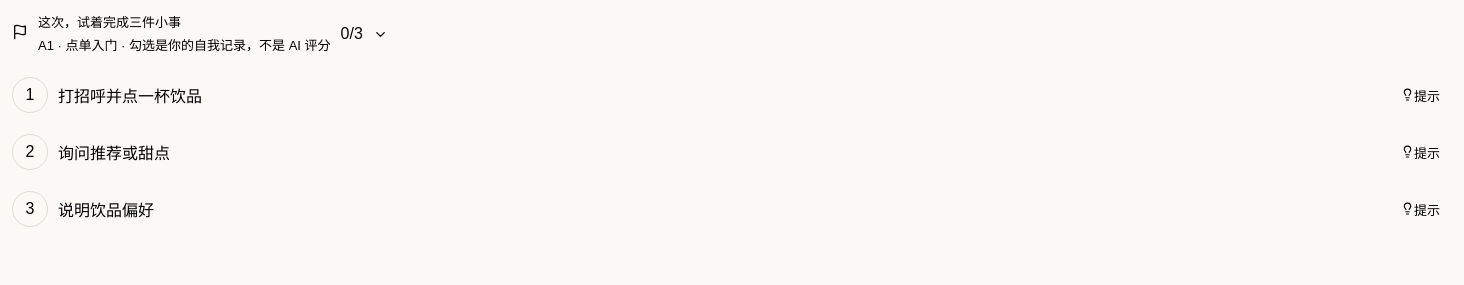
records reversible self-reported tasks without claiming an AI score
The width and height of the screenshot is (1464, 285).
Click the button "1".
click(30, 95)  # box [12,77,48,113]
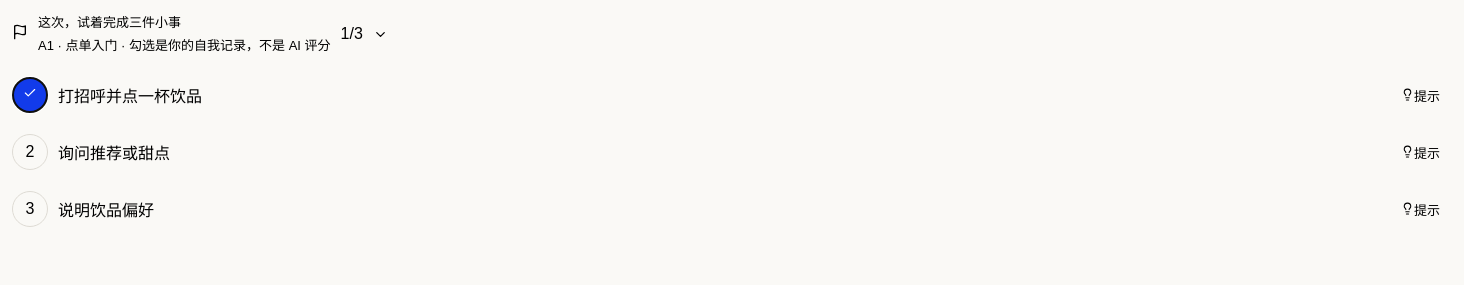
Click the button "2".
click(30, 152)  # box [12,134,48,170]
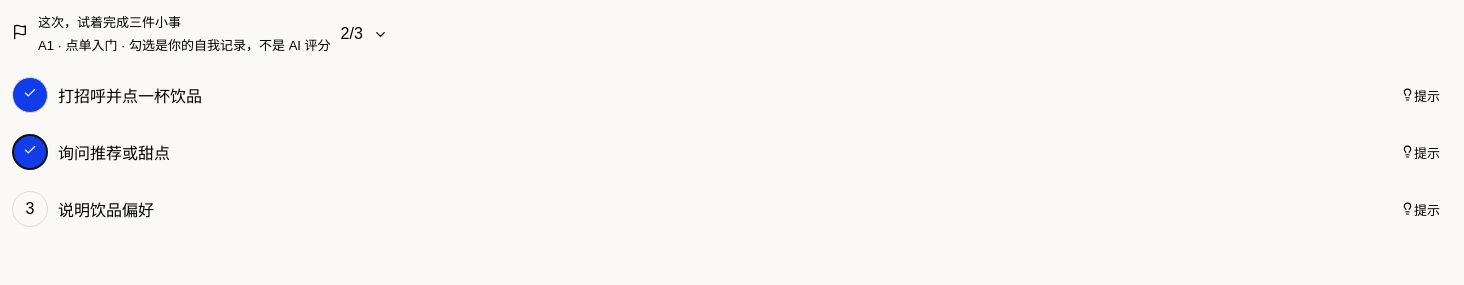
Click the button "3".
click(30, 209)  # box [12,191,48,227]
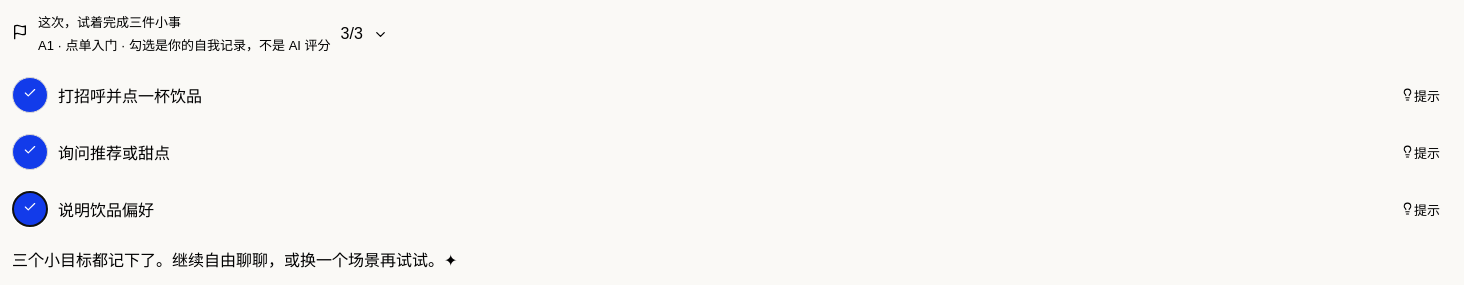
Now the text "3/3" is shown, box [340,25,363,43]
Now the message shows "三个小目标", box [12,252,457,269]
Click the button named "标记任务：打招呼并点一杯饮品".
click(30, 95)  # box [12,77,48,113]
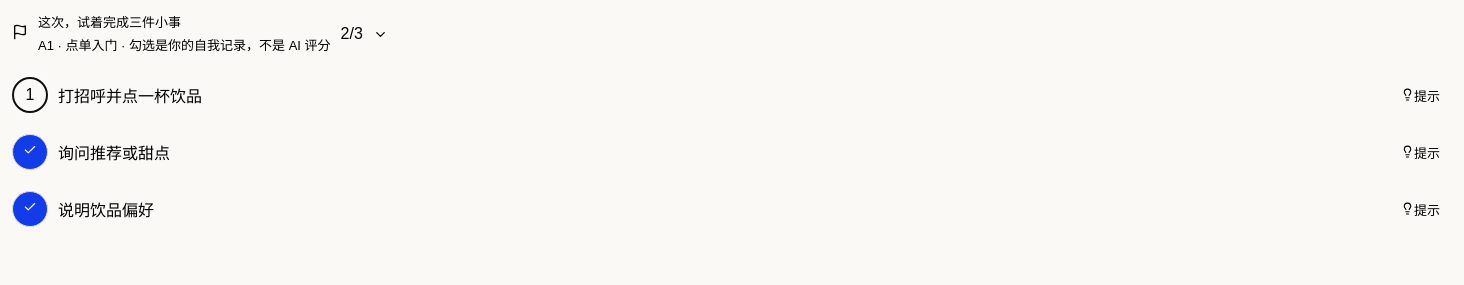
Now the message "三个小目标都记下了。继续自由聊聊，或换一个场景再试试。✦" is gone
